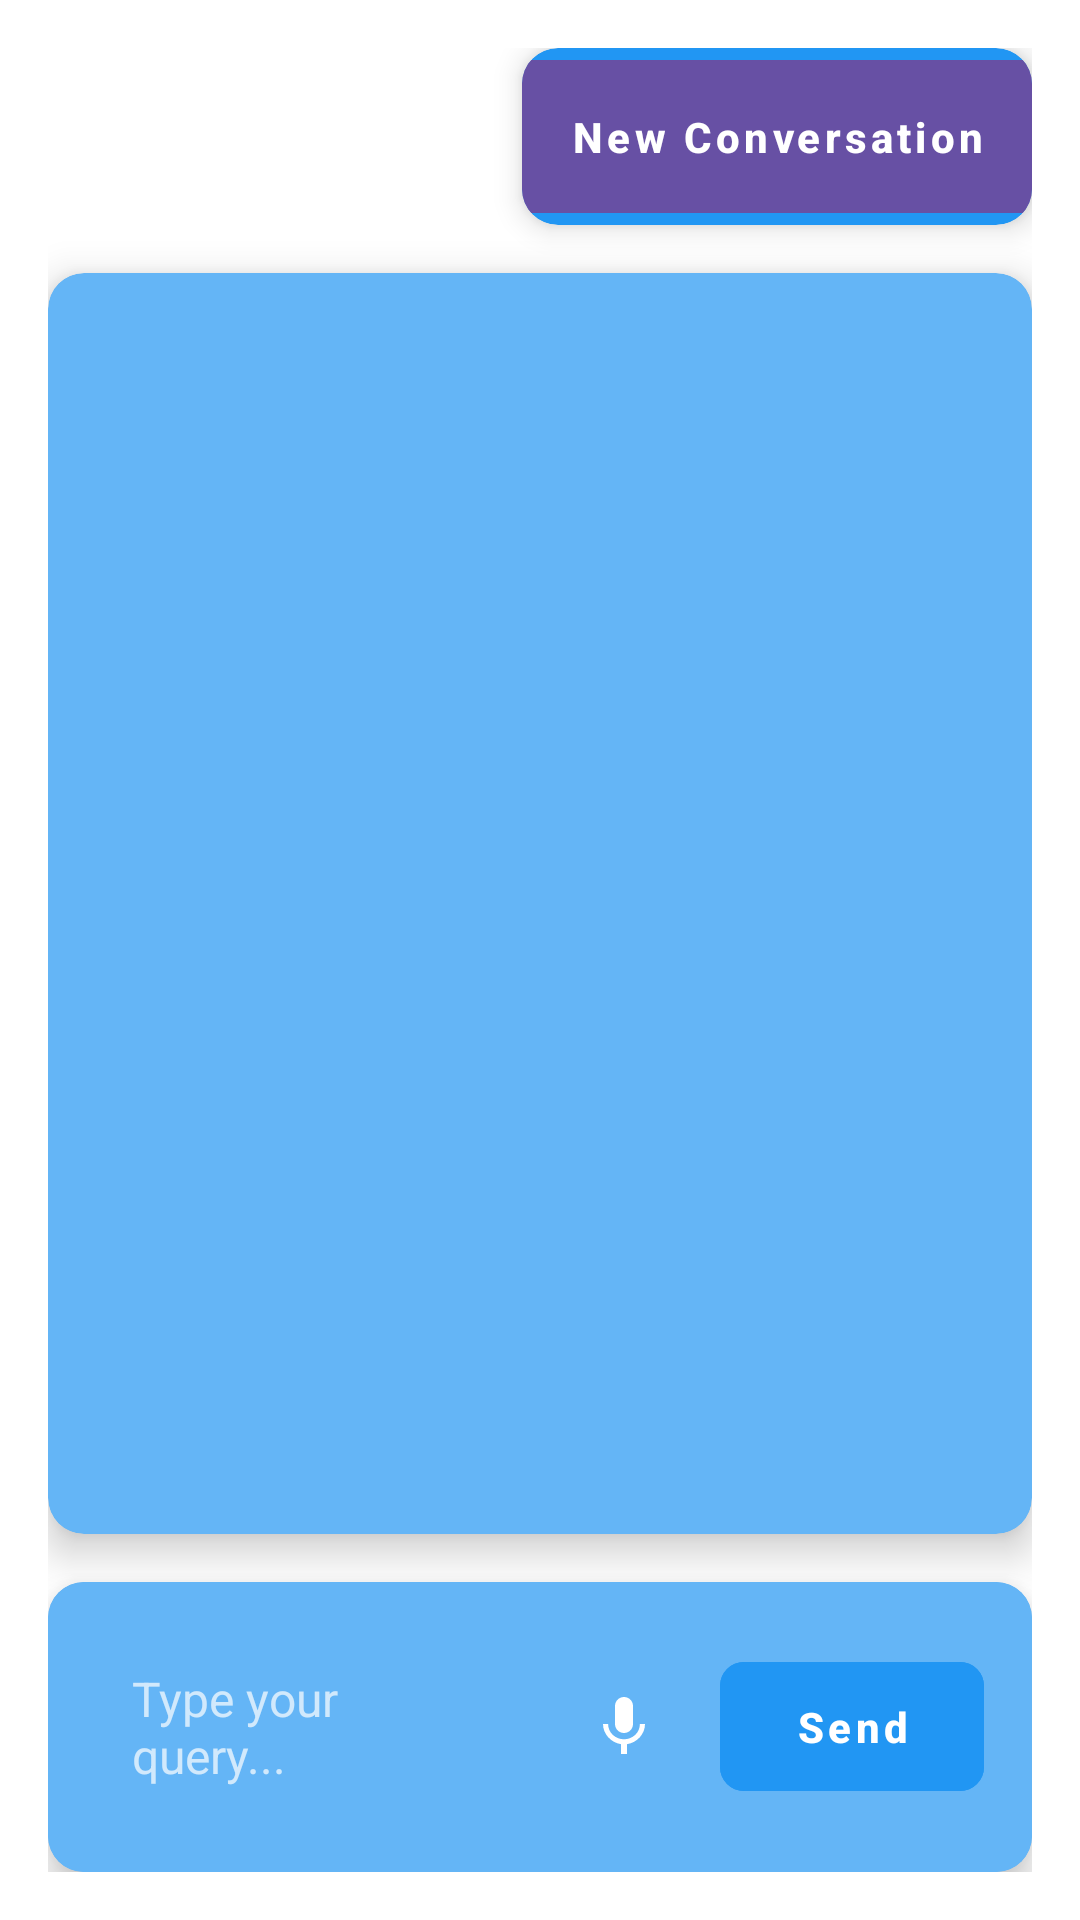

Point at icon controls on the screen. Image size 1080px×1920px, points as point (x, y).
Use voice input: point (624, 1725)
